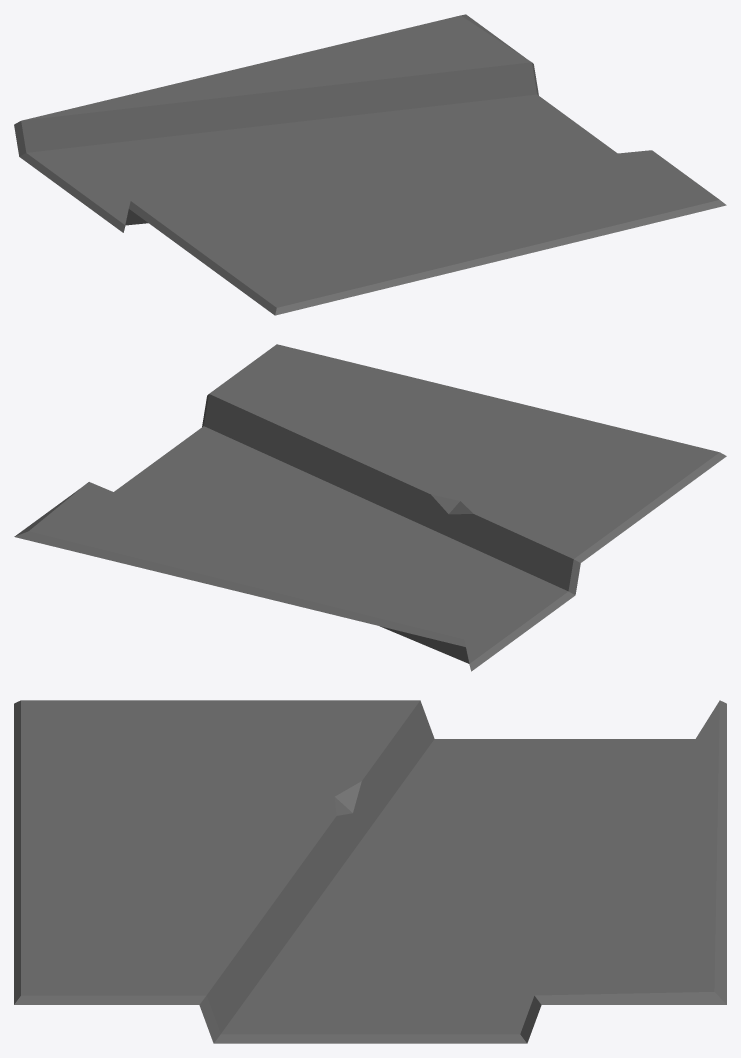
File: SM_Envr_Canal_Floor_04.fbx
3 views of the same model, one above another, from view 1: azimuth 30°, elevation 25°; view 2: azimuth 150°, elevation 25°; view 3: azimuth 270°, elevation 25° (orthographic). The views are drawn at different scales.
Parts seen in each view (by area): view 1: SM_Envr_Canal_Floor_04; view 2: SM_Envr_Canal_Floor_04; view 3: SM_Envr_Canal_Floor_04.
Part boxes in pixels (x1,y1,x2,y2): SM_Envr_Canal_Floor_04: (14, 14, 726, 315); SM_Envr_Canal_Floor_04: (14, 344, 726, 671); SM_Envr_Canal_Floor_04: (14, 700, 726, 1043).
Bounding box in the file's own units: 500 × 35 × 500.
